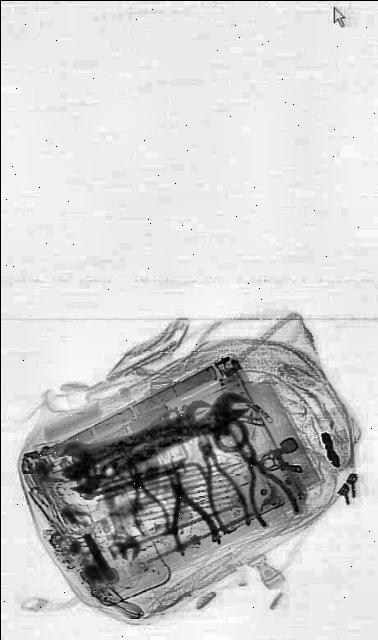Pliers: (218, 404, 300, 546), (150, 446, 218, 566), (189, 421, 250, 544), (120, 463, 170, 549)
Wrench: (97, 381, 250, 492), (56, 389, 212, 483), (92, 468, 142, 568)
